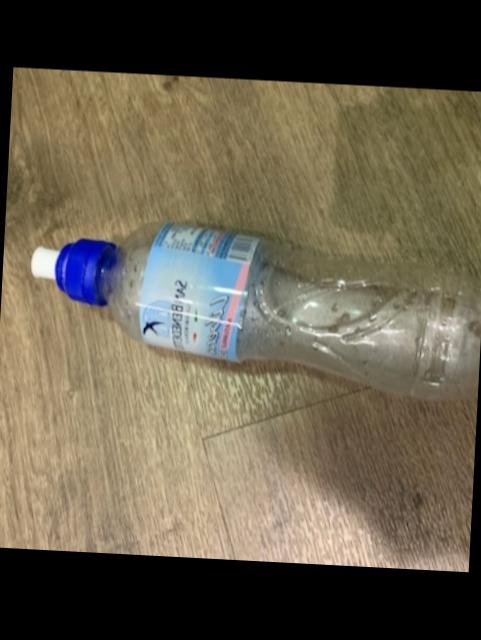plastic: (28, 222, 481, 397)
